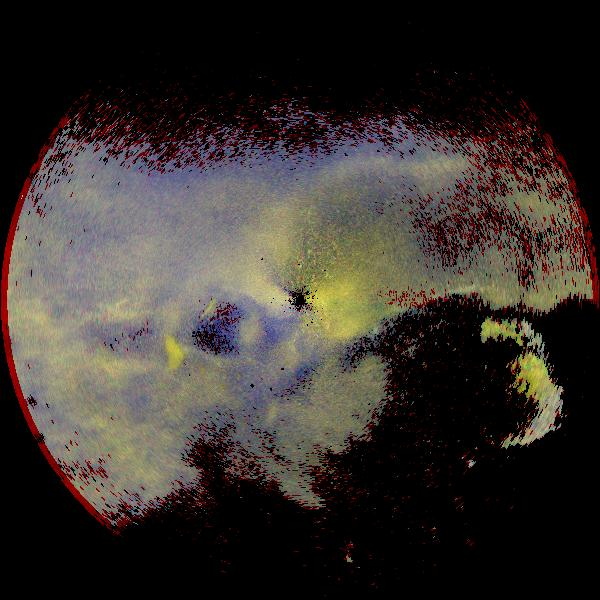roost: (129, 320, 201, 392)
